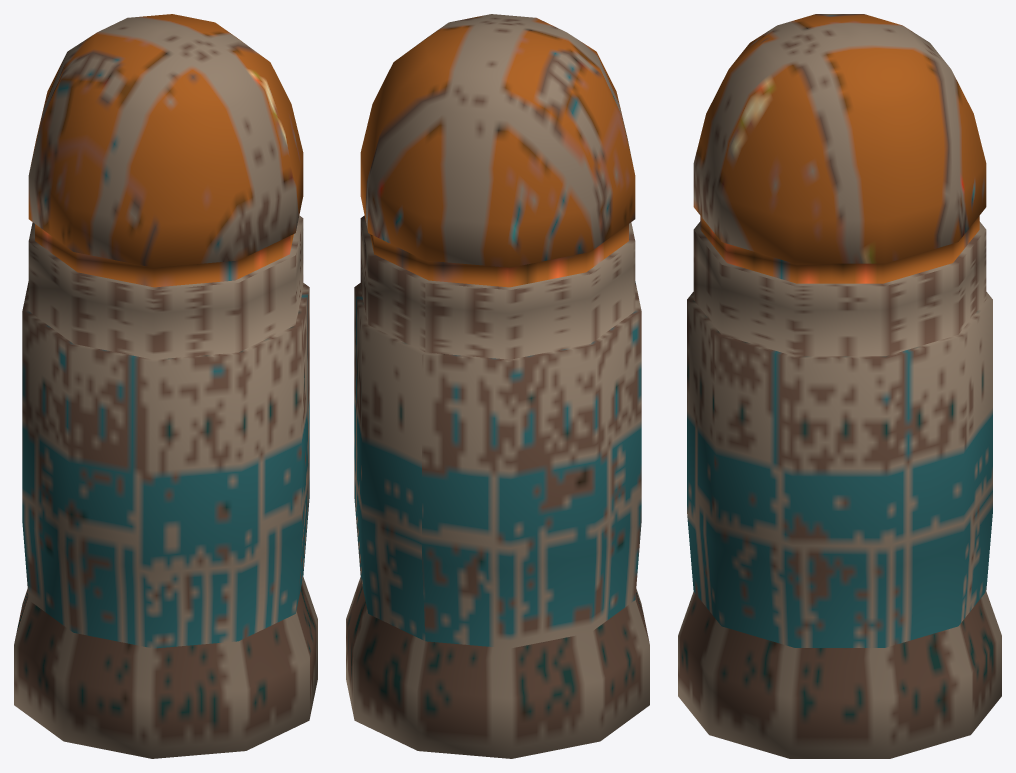
File: SM_Ammo_02.fbx
3 views of the same model, side by side, from view 1: azimuth 30°, elevation 25°; view 2: azimuth 150°, elevation 25°; view 3: azimuth 270°, elevation 25° (orthographic).
Parts seen in each view (by area): view 1: SM_Ammo_02; view 2: SM_Ammo_02; view 3: SM_Ammo_02.
Part boxes in pixels (left/top/right/bottom): SM_Ammo_02: left=14, top=14, right=317, bottom=758; SM_Ammo_02: left=346, top=14, right=649, bottom=758; SM_Ammo_02: left=678, top=14, right=1001, bottom=758.
Bounding box in the file's own units: 18.72 × 46.24 × 20.45.
